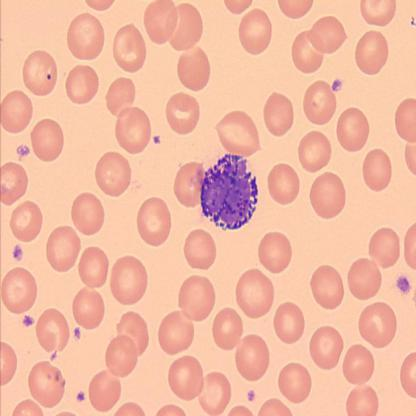Basophil: (197, 151, 261, 235)
